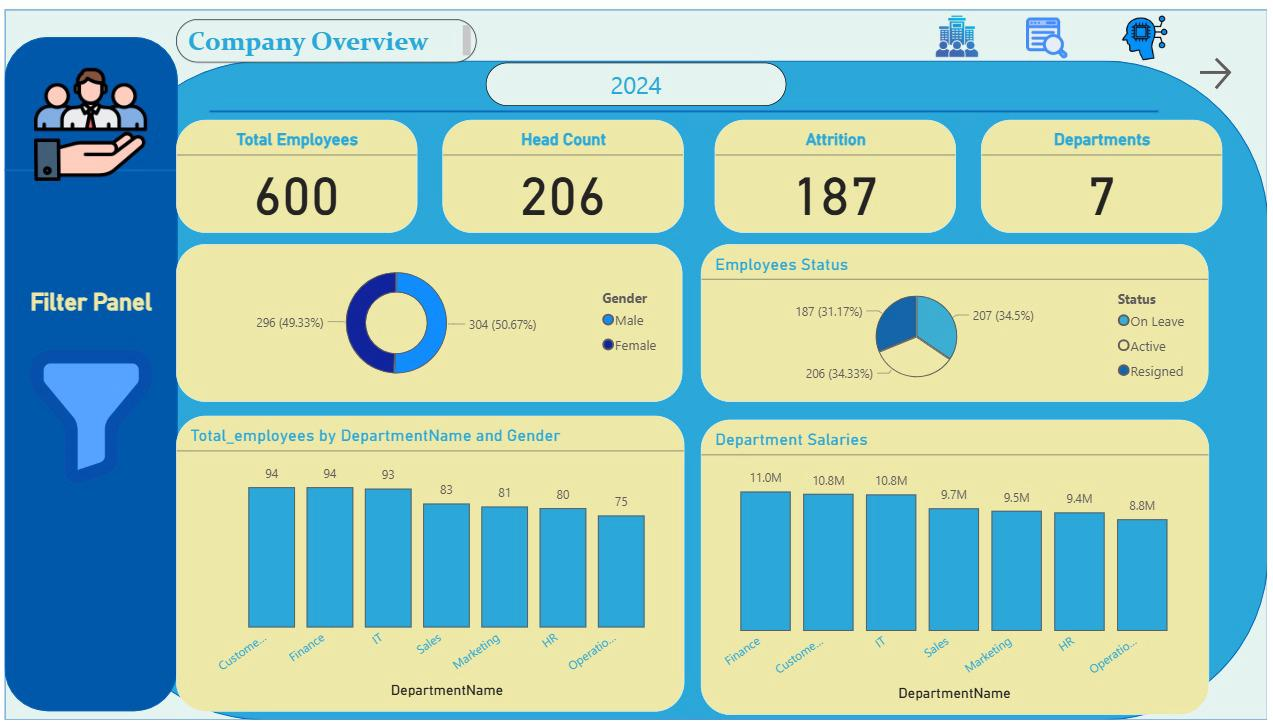

The dashboard page shown, as its layout file describes it:
{"tool":"powerbi","page":{"name":"Page 1","canvas":[1280,720],"ordinal":1},"visuals":[{"type":"shape","box":[0,0,1280.8,720.6],"z":0},{"type":"card","title":"Total Employees","fields":{"Values":["\"Measures\".Total_employees"]},"box":[174.9,112.8,244.5,115],"z":0,"group":"g1"},{"type":"shape","box":[95.5,51.8,1185.3,668.7],"z":1000},{"type":"card","title":"Head Count","fields":{"Values":["\"Measures\".HeadCount"]},"box":[443.7,112.8,244.5,115],"z":1000,"group":"g1"},{"type":"shape","box":[0,29,175.8,683.8],"z":2000},{"type":"card","title":"Attrition","fields":{"Values":["\"Measures\".\"Total_Attrition\""]},"box":[720.6,112.8,244.5,115],"z":2000,"group":"g1"},{"type":"shape","box":[207.3,45.3,961.8,115],"z":3000},{"type":"card","title":"Departments","fields":{"Values":["\"Measures\".Total_Departments"]},"box":[989.3,112.8,244.5,115],"z":3000,"group":"g1"},{"type":"textbox","box":[174.9,9.7,304.4,43.7],"z":4000},{"type":"image","box":[0,54.5,174.9,124.7],"z":4000,"group":"g1"},{"type":"image","box":[927.2,0,75.3,54.1],"z":5000},{"type":"clusteredColumnChart","title":"Total_employees by DepartmentName and Gender","fields":{"Y":["\"Measures\".Total_employees"],"Category":["DimDepartment (2).DepartmentName"]},"box":[174.9,412.3,515,300],"z":5000,"group":"g1"},{"type":"shape","box":[0,95.5,174.9,134.4],"z":6000},{"type":"clusteredColumnChart","title":"Department Salaries","fields":{"Category":["DimDepartment (2).DepartmentName"],"Y":["\"Measures\".Total_Salaries"]},"box":[706,415.6,515,299.6],"z":6000,"group":"g1"},{"type":"textbox","box":[487.4,53.4,304.4,43.7],"z":7000},{"type":"donutChart","title":"Department Salaries","fields":{"Y":["\"Measures\".Total_employees"],"Category":["DimEmployee (2).Gender"]},"box":[174.9,239.1,513.3,160.3],"z":7000,"group":"g1"},{"type":"image","box":[1019.9,0,73.4,57.9],"z":8000},{"type":"pieChart","title":"Employees Status","fields":{"Y":["\"Measures\".Total_employees"],"Category":["DimEmployee (2).Status"]},"box":[706,239.1,514.9,160.3],"z":8000,"group":"g1"},{"type":"image","box":[1077.8,0,156.5,57.9],"z":9000},{"type":"image","title":"Filter Panel","box":[0,281.5,175.8,235.7],"z":9000,"group":"g1"},{"type":"group","id":"g1","title":"visual","box":[0,54.5,1233.8,661.5],"z":11000},{"type":"actionButton","box":[1206.5,44.6,74.3,42.1],"z":12000}]}

Visuals, with their boxes in screenshot pixels (x1, y1, x2, y2), scaled from the page's 1280x720 canvas onto the 1273x727 screenshot:
shape: 0:0:1272:726
"Total Employees" card: 174:114:417:230
shape: 95:52:1272:726
"Head Count" card: 441:114:684:230
shape: 0:29:175:720
"Attrition" card: 717:114:960:230
shape: 206:46:1163:162
"Departments" card: 984:114:1227:230
textbox: 174:10:477:54
image: 0:55:174:181
image: 922:0:997:55
"Total_employees by DepartmentName and Gender" clusteredColumnChart: 174:416:686:719
shape: 0:96:174:232
"Department Salaries" clusteredColumnChart: 702:420:1214:722
textbox: 485:54:787:98
"Department Salaries" donutChart: 174:241:684:403
image: 1014:0:1087:58
"Employees Status" pieChart: 702:241:1214:403
image: 1072:0:1228:58
"Filter Panel" image: 0:284:175:522
"visual" group: 0:55:1227:723
actionButton: 1200:45:1272:88
